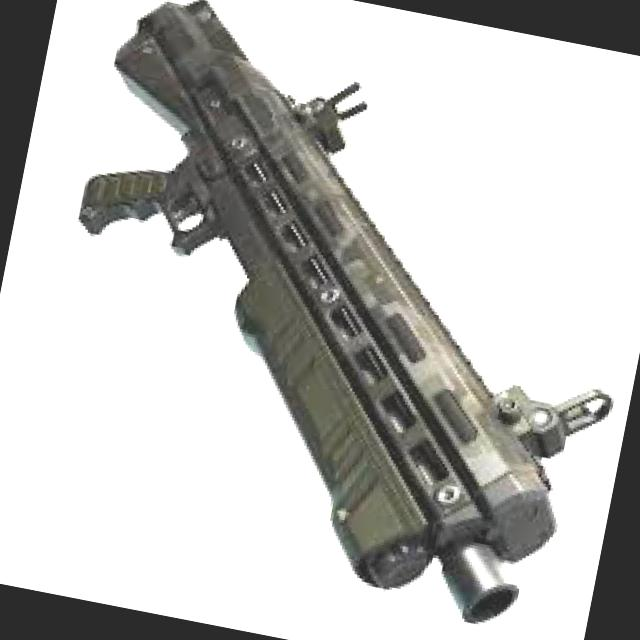long weapon: (73, 0, 626, 640)
